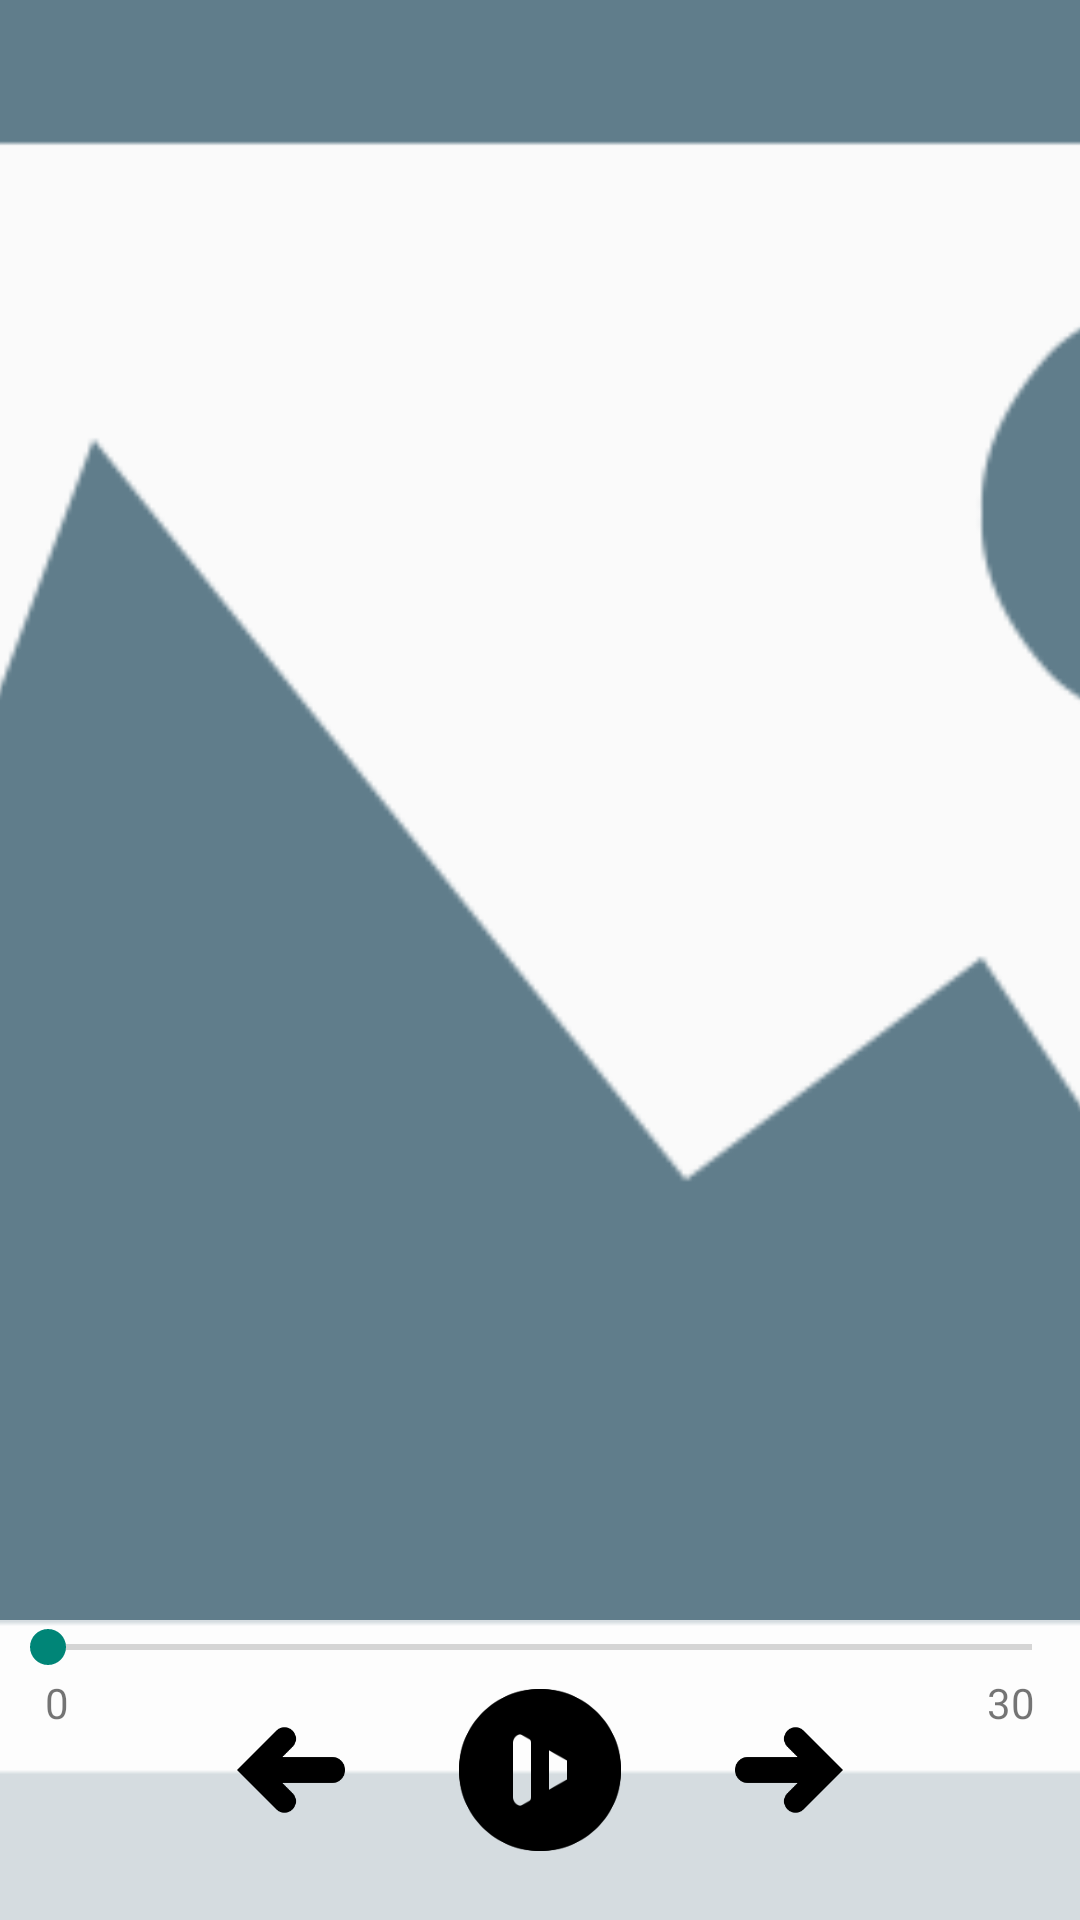

Icon click points for this 1080 x 1920 phone screenshot, format [x,y]:
next: [789,1770]
previous: [291,1770]
